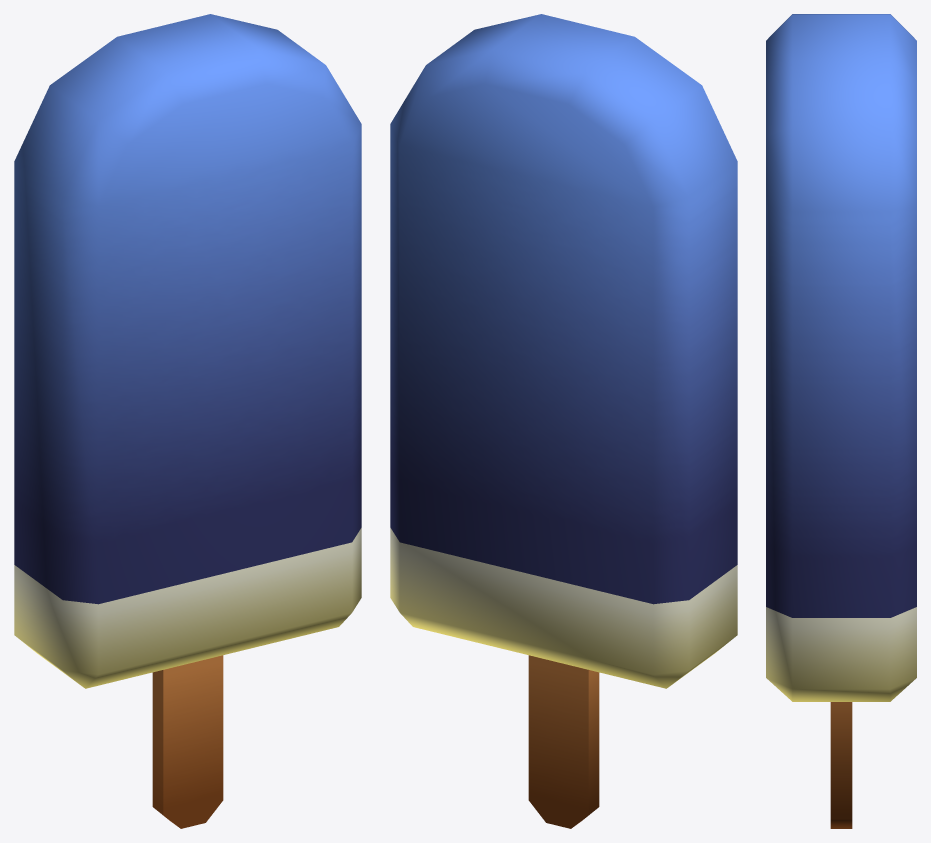
File: m_SimplePopsicle06.fbx
The picture shows the model from 3 angles, left to right: view 1: azimuth 30°, elevation 25°; view 2: azimuth 150°, elevation 25°; view 3: azimuth 270°, elevation 25°; orthographic projection.
Visible parts, largest first — view 1: m_SimplePopsicle06; view 2: m_SimplePopsicle06; view 3: m_SimplePopsicle06.
Boxes of the visible parts, x1,y1,x2,y2 form: m_SimplePopsicle06: [14, 14, 361, 828]; m_SimplePopsicle06: [390, 14, 737, 828]; m_SimplePopsicle06: [766, 14, 916, 828].
Bounding box in the file's own units: 9.24 × 22.99 × 4.
